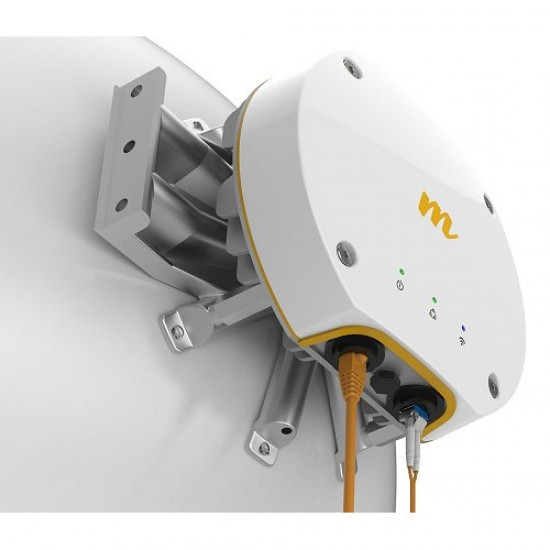ba: (215, 47, 530, 470)
